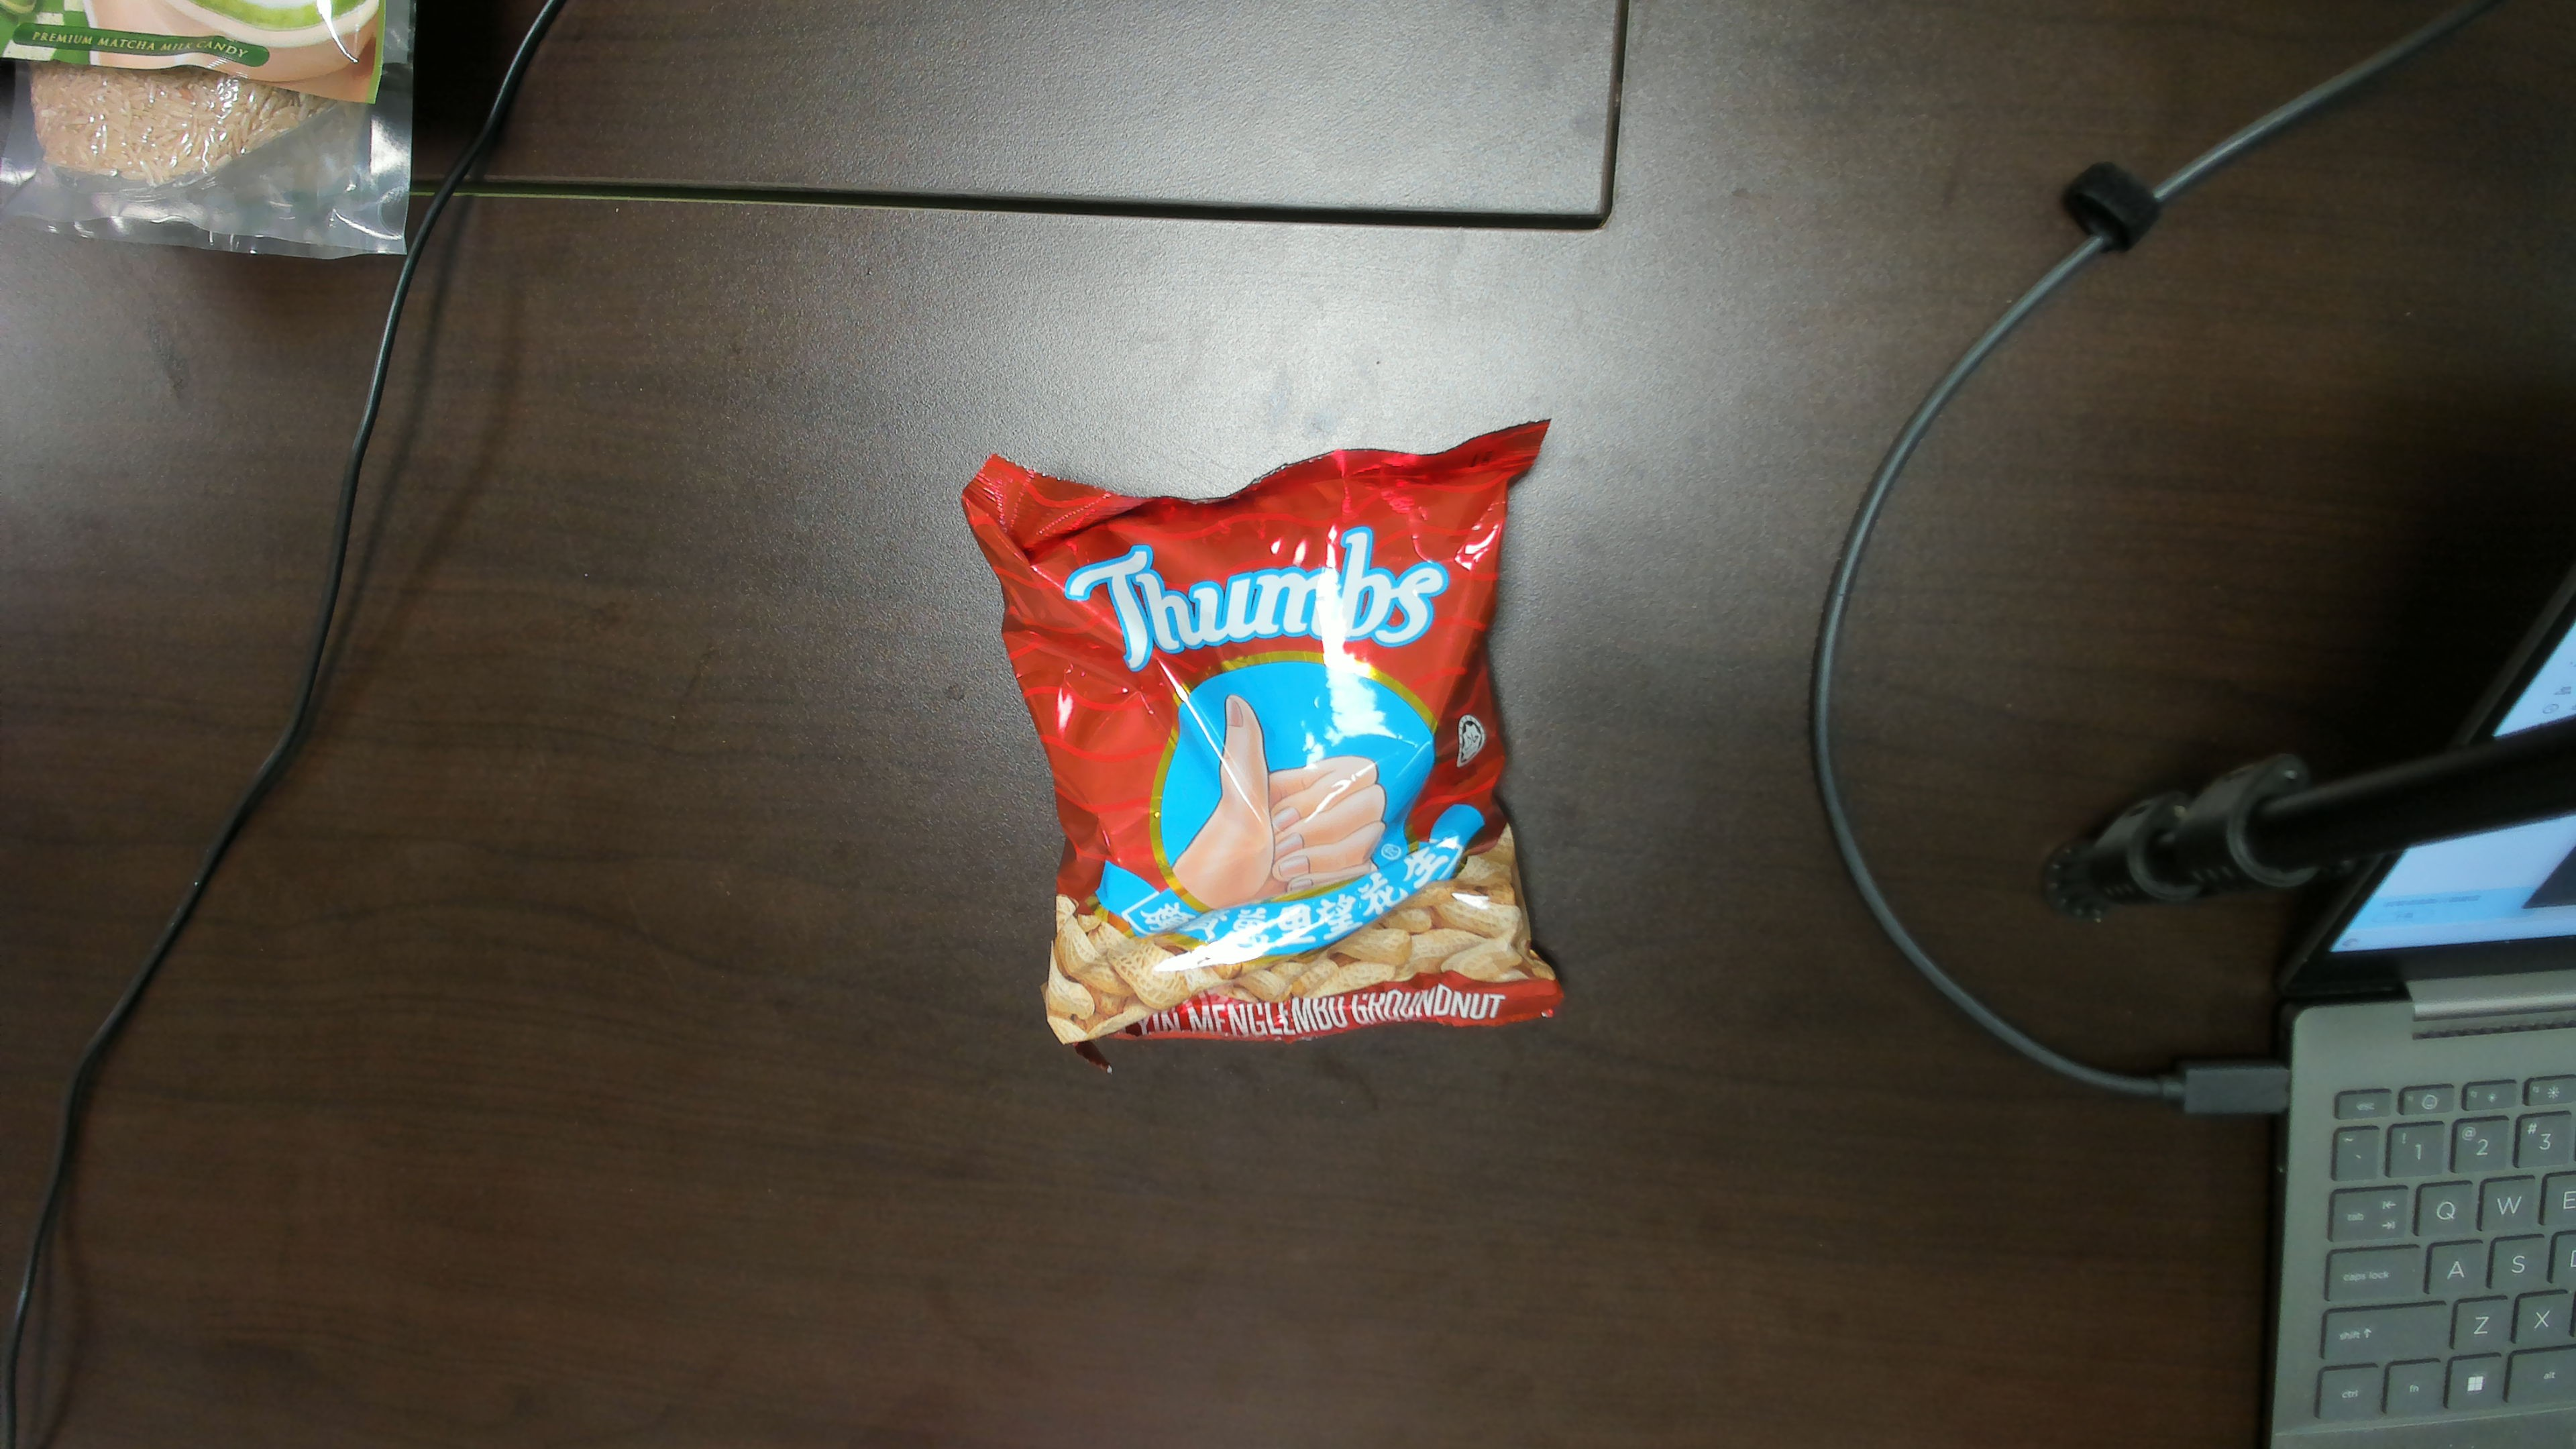Nuts_100-199g_Halal_NonHealthy: (1076, 554, 1504, 1016)
